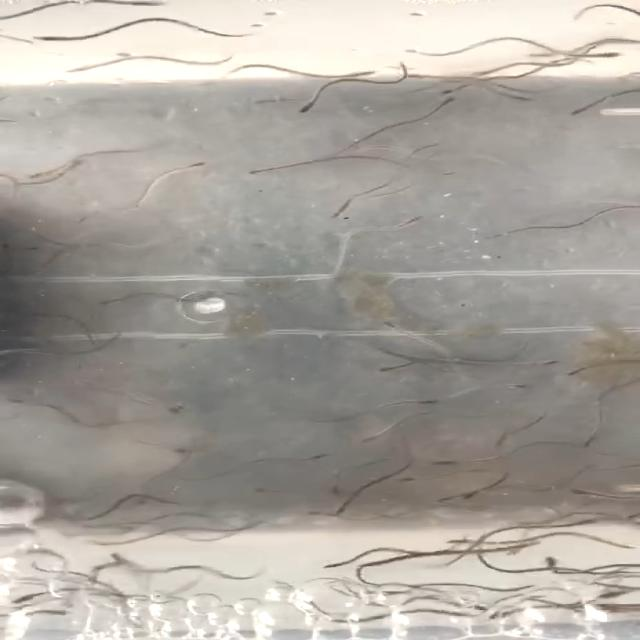active_glass_eel: (523, 46, 565, 64), (386, 468, 432, 484), (322, 200, 356, 221), (314, 554, 358, 570), (440, 532, 479, 550), (109, 546, 136, 572), (353, 432, 388, 452), (580, 46, 622, 62), (10, 592, 50, 608), (392, 212, 422, 233), (434, 82, 470, 99), (406, 394, 446, 409), (61, 64, 98, 80), (565, 486, 604, 501), (376, 317, 408, 335), (460, 484, 492, 502), (538, 550, 564, 572), (378, 360, 418, 374), (523, 356, 562, 370), (326, 504, 356, 522), (179, 158, 217, 172), (428, 492, 460, 508), (238, 165, 272, 180), (58, 158, 86, 176), (560, 366, 590, 382), (27, 166, 56, 182), (296, 99, 324, 115), (504, 91, 536, 105), (168, 442, 196, 458), (34, 30, 70, 42), (576, 432, 600, 450), (428, 456, 464, 468), (570, 100, 596, 116), (248, 486, 276, 500), (296, 450, 328, 462), (346, 68, 384, 78), (501, 379, 529, 392), (132, 0, 164, 10), (430, 98, 456, 110), (172, 400, 189, 417)
